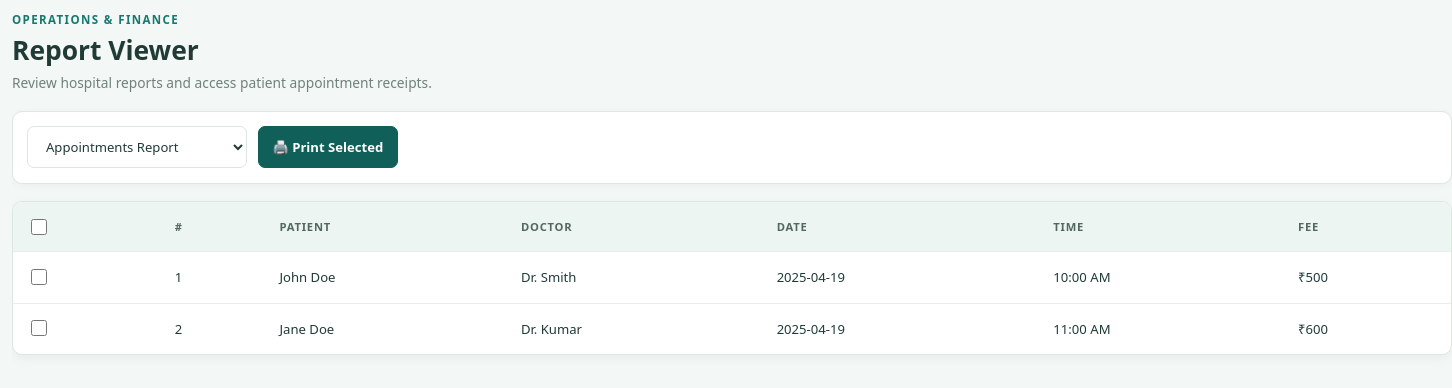
Test: requires a valid minimum mobile search before displaying appointments
The width and height of the screenshot is (1452, 388).
Select "Appointment Receipts" in the dropdown named "Report type" at (137, 147), box [27, 126, 247, 168]
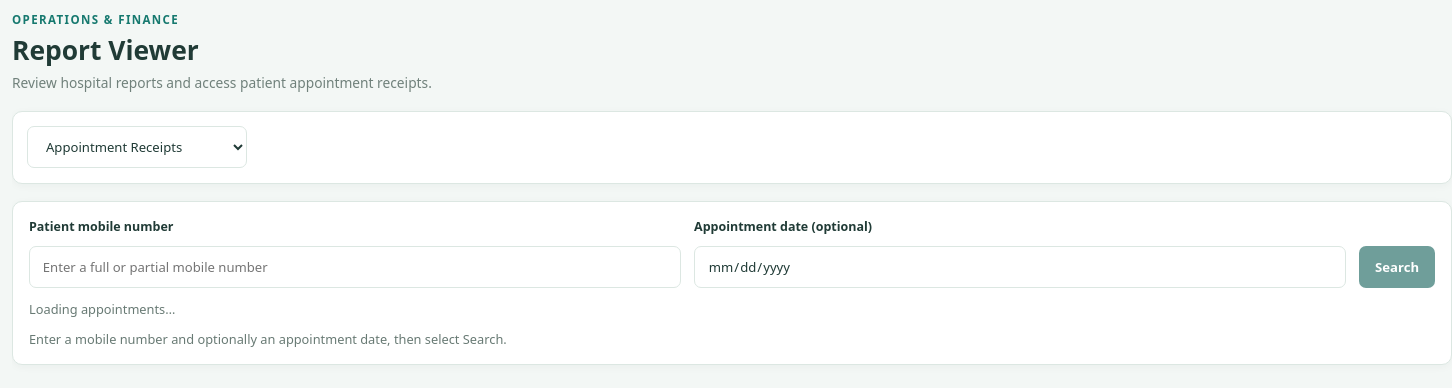
Type "12" into the search field labelled "Patient mobile number".
click(355, 266); type("12")  # box [29, 246, 681, 288]
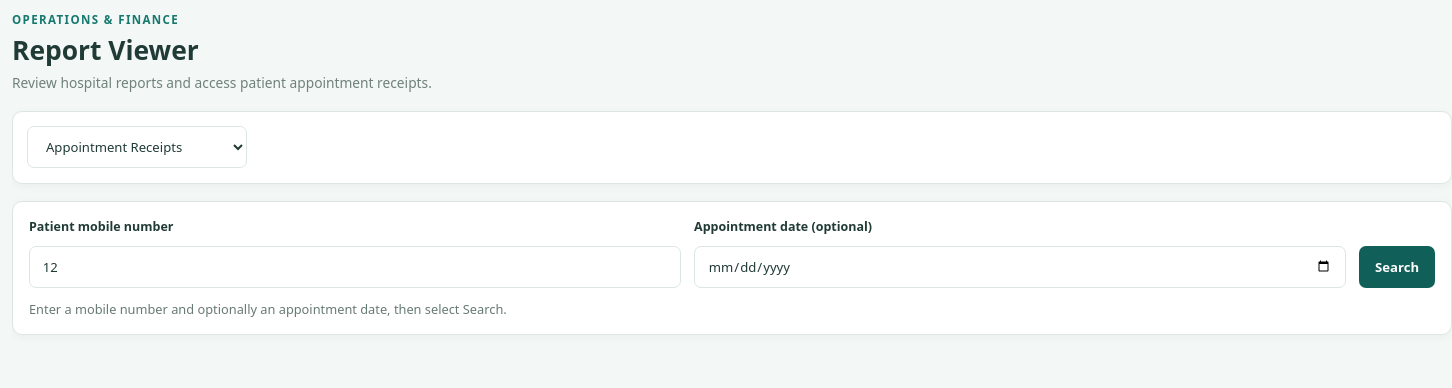
Click the button "Search".
click(1397, 266)  # box [1359, 246, 1435, 288]
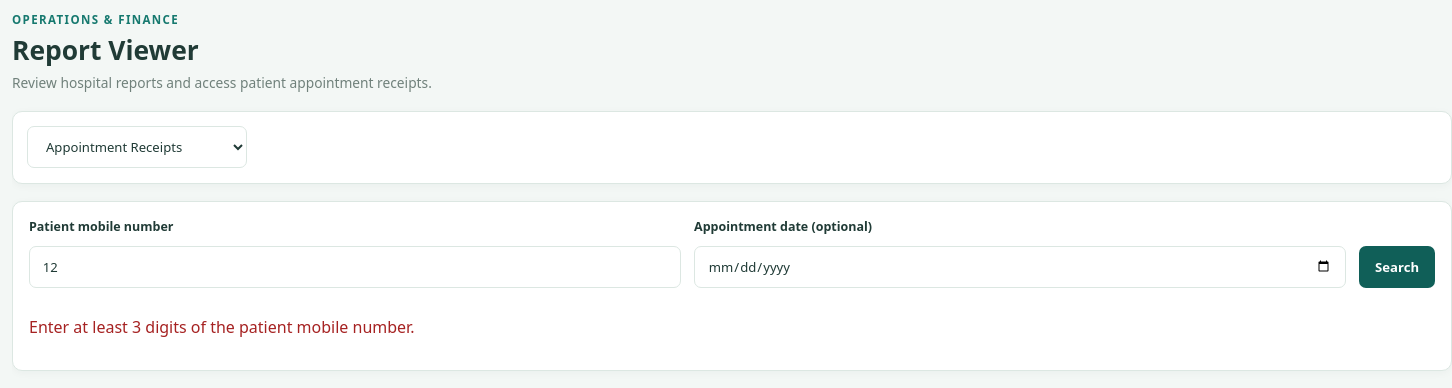
expect the message reads "Enter at least 3 digits of the patient mobile number.": met, box [29, 316, 414, 338]
